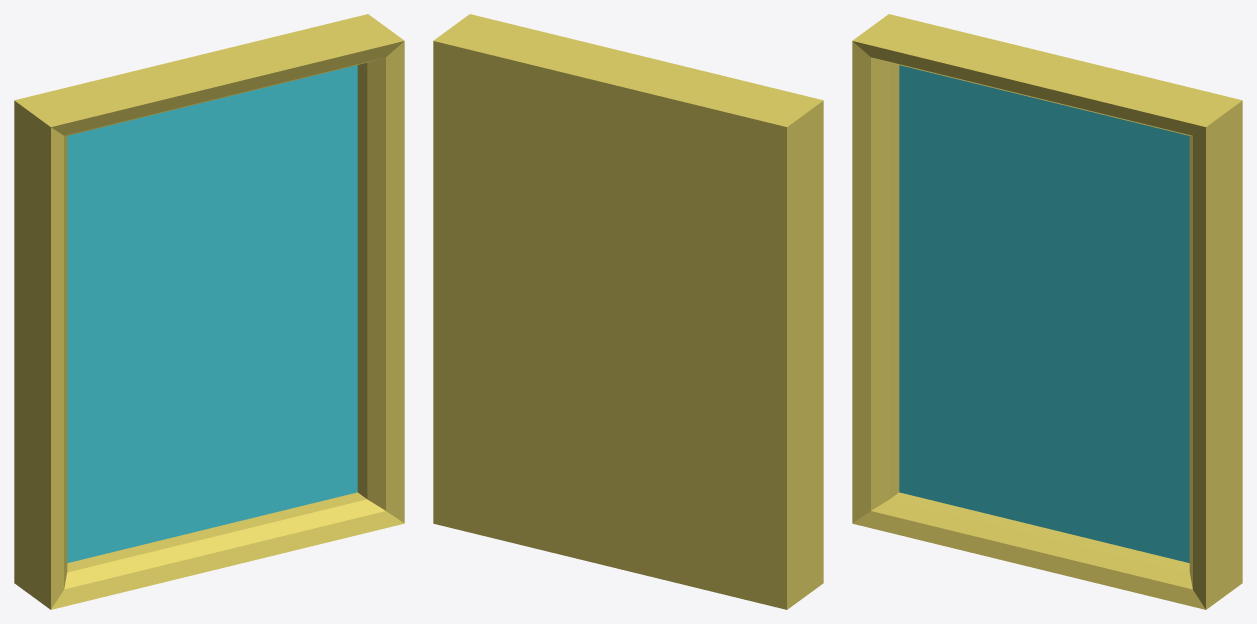
The model's file is WallPicFrame.fbx.
The picture shows the model from 3 angles, left to right: view 1: azimuth 30°, elevation 25°; view 2: azimuth 150°, elevation 25°; view 3: azimuth 330°, elevation 25°; orthographic projection.
Parts seen in each view (by area): view 1: IMG.001, Frame.001; view 2: Frame.001; view 3: IMG.001, Frame.001.
Part boxes in pixels (<box>): IMG.001: <box>67,65,357,562</box>; Frame.001: <box>14,14,404,609</box>; Frame.001: <box>433,14,823,609</box>; IMG.001: <box>899,65,1189,562</box>; Frame.001: <box>852,14,1242,609</box>.
Bounding box in the file's own units: 45.75 × 59.63 × 8.22.
